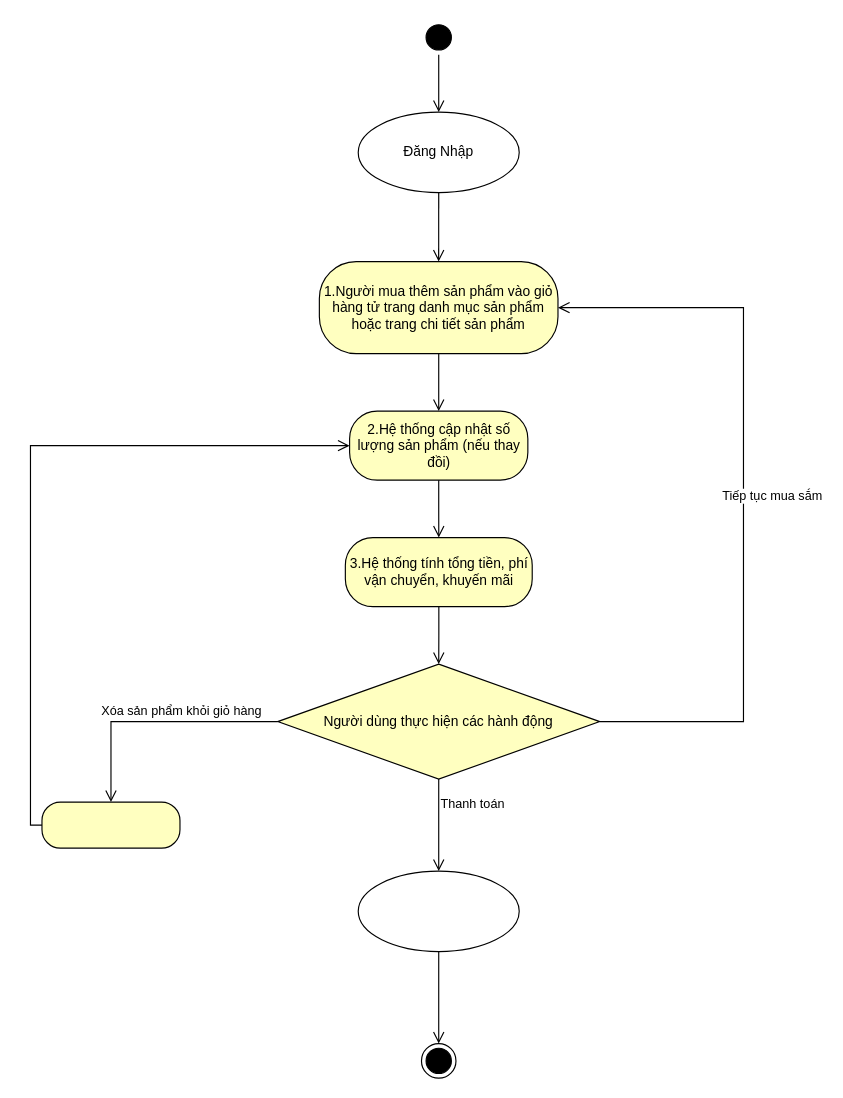
This 843x1098 diagram has some shape labels left out. Each missing label, with the box of its shape:
4.Sản phẩm được xóa khỏi giò hàng: (41, 801, 180, 848)
Quy trình thanh toán: (357, 870, 519, 952)
